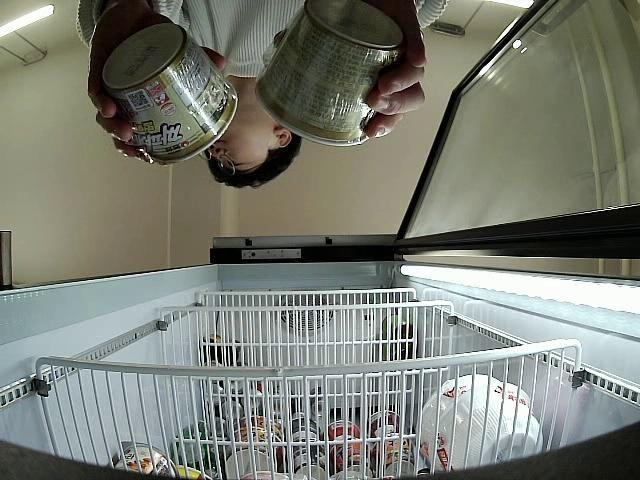04_chapagetti_S: (256, 0, 402, 145), (102, 22, 238, 164)
